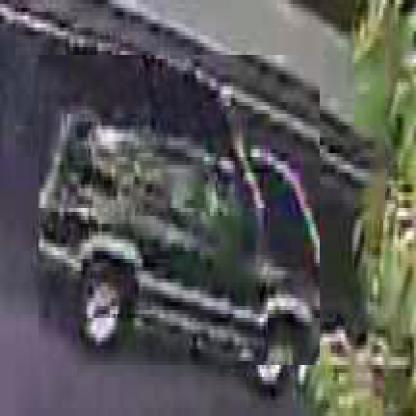car: (38, 56, 321, 370)
